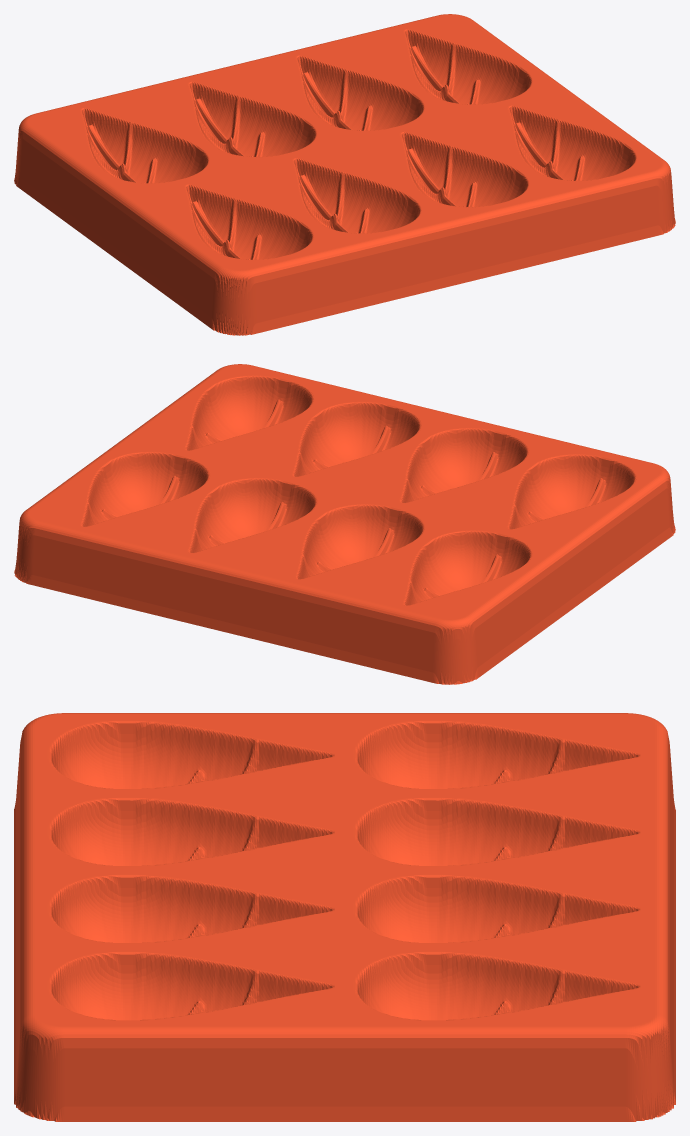
File: mold.glb
The picture shows the model from 3 angles, top to bottom: view 1: azimuth 30°, elevation 25°; view 2: azimuth 150°, elevation 25°; view 3: azimuth 270°, elevation 25°; orthographic projection. The views are drawn at different scales.
Visible parts, largest first — view 1: geometry_0; view 2: geometry_0; view 3: geometry_0.
Part boxes in pixels (<box>): geometry_0: <box>14,14,675,335</box>; geometry_0: <box>14,364,675,684</box>; geometry_0: <box>14,713,675,1121</box>.
Bounding box in the file's own units: 0.1423 × 0.0175 × 0.1209.
